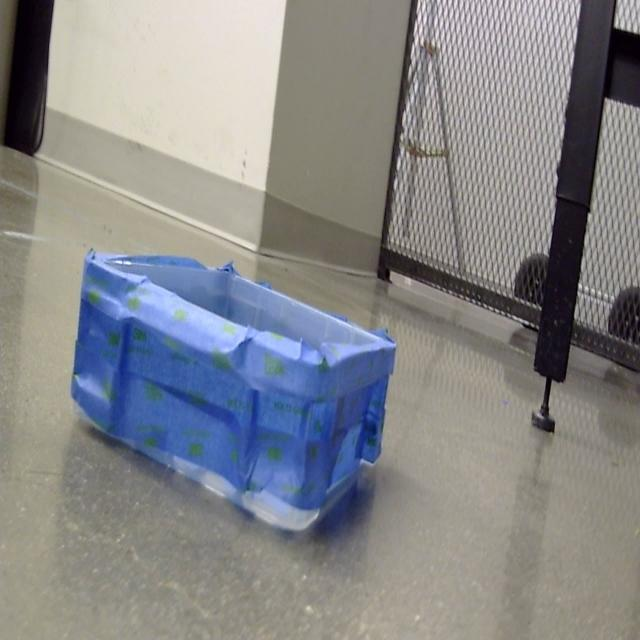bucket: (70, 250, 397, 539)
